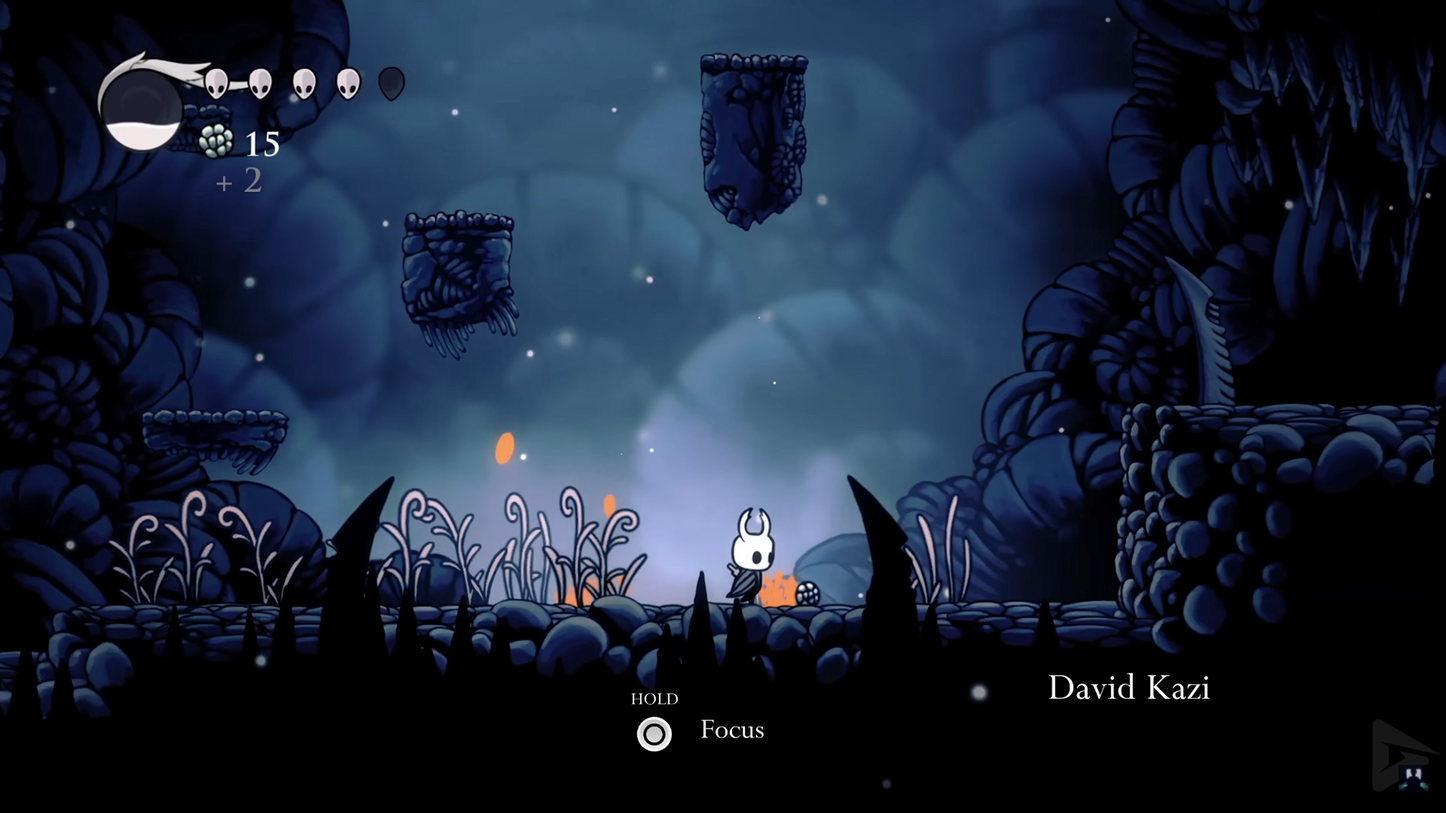HK: (723, 504, 779, 605)
